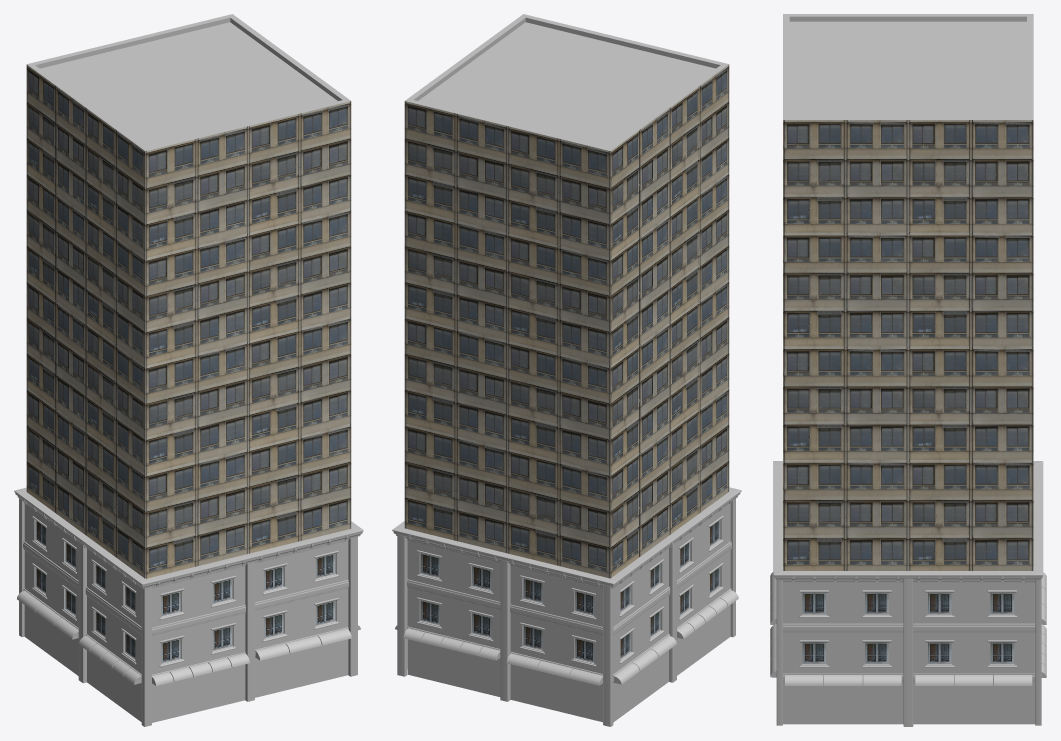
Rendered from High RIse Building 24.fbx.
3 renders of one model, left to right at view 1: azimuth 30°, elevation 25°; view 2: azimuth 150°, elevation 25°; view 3: azimuth 270°, elevation 25°, orthographic. The views are drawn at different scales.
Parts seen in each view (by area): view 1: Top, Base, Part_3, Part_2, Part_1; view 2: Top, Base, Part_3, Part_2, Part_1; view 3: Top, Base, Part_3, Part_2, Part_1.
Part boxes in pixels (bbox=[...]): Top: bbox=[26, 14, 351, 258]; Base: bbox=[14, 487, 363, 726]; Part_3: bbox=[26, 172, 351, 366]; Part_2: bbox=[26, 280, 351, 474]; Part_1: bbox=[26, 388, 351, 578]; Top: bbox=[404, 14, 729, 258]; Base: bbox=[392, 487, 741, 726]; Part_3: bbox=[404, 172, 729, 366]; Part_2: bbox=[404, 280, 729, 474]; Part_1: bbox=[404, 387, 729, 578]; Top: bbox=[783, 14, 1033, 233]; Base: bbox=[770, 461, 1046, 726]; Part_3: bbox=[783, 233, 1033, 347]; Part_2: bbox=[783, 347, 1033, 460]; Part_1: bbox=[783, 461, 1033, 570].
Bounding box in the file's own units: 1763 × 4250 × 1764.
